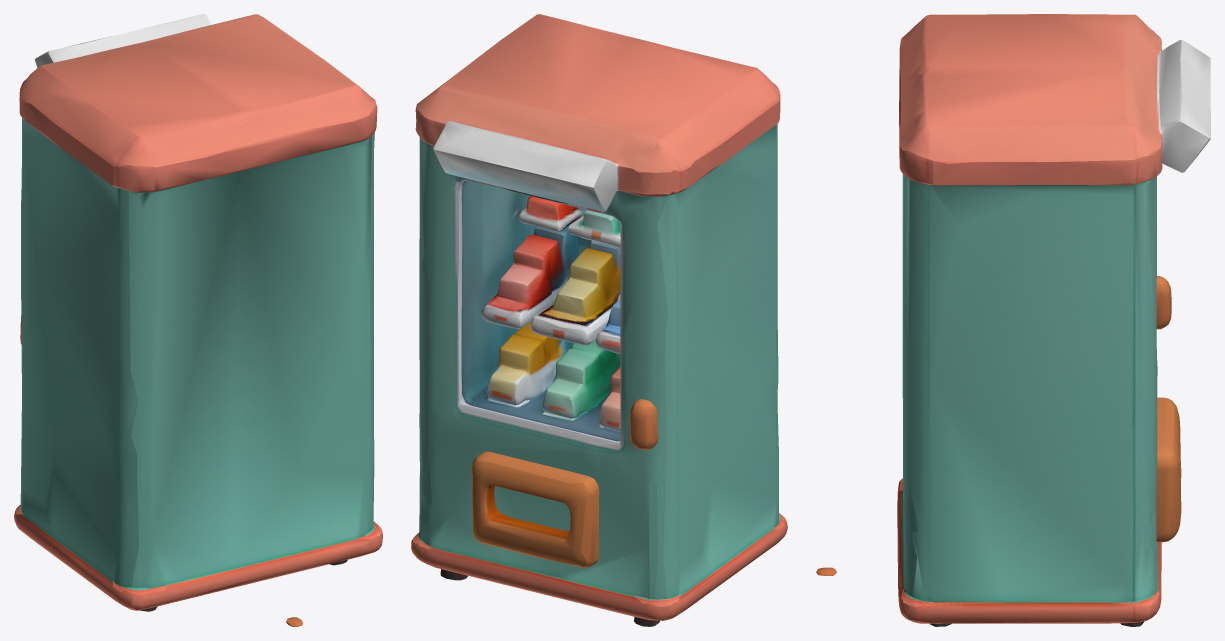
File: Prop_VendingMachine_AI.glb
The picture shows the model from 3 angles, left to right: view 1: azimuth 30°, elevation 25°; view 2: azimuth 150°, elevation 25°; view 3: azimuth 270°, elevation 25°; orthographic projection. The views are drawn at different scales.
Visible parts, largest first — view 1: Prop_VendingMachine_AI; view 2: Prop_VendingMachine_AI; view 3: Prop_VendingMachine_AI.
Boxes of the visible parts, left/top/right/bottom form: Prop_VendingMachine_AI: left=14, top=14, right=382, bottom=626; Prop_VendingMachine_AI: left=411, top=14, right=787, bottom=626; Prop_VendingMachine_AI: left=816, top=14, right=1210, bottom=626.
Bounding box in the file's own units: 1.07 × 1.85 × 1.31.
Materials: 3 (3 with a texture image).
